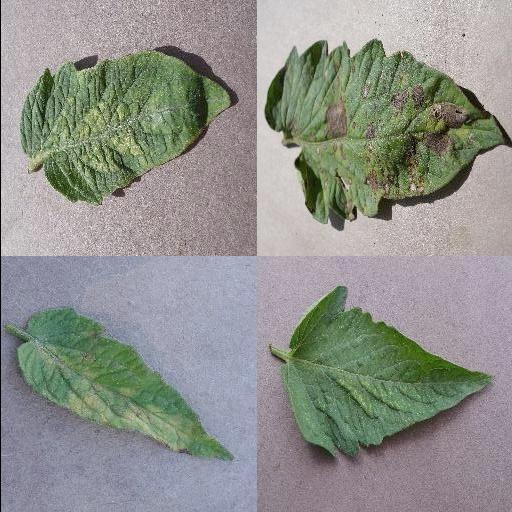Early Blight: (263, 38, 511, 224)
Leaf Mold: (19, 308, 235, 461)
Spider Mites: (280, 284, 494, 459), (18, 52, 232, 204)
